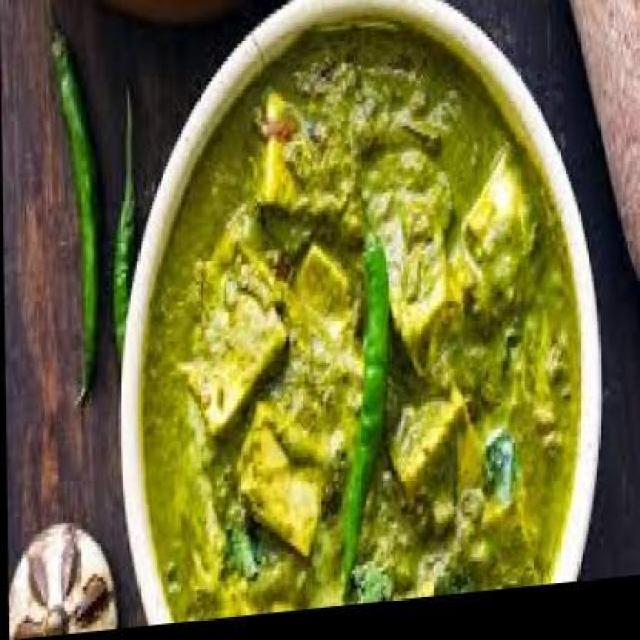palak_paneer: (137, 12, 581, 630)
